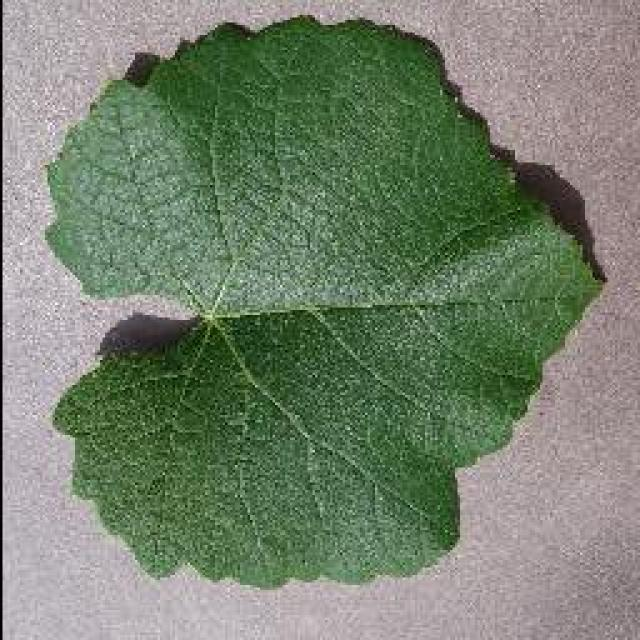Grape___healthy: (28, 6, 615, 594)
